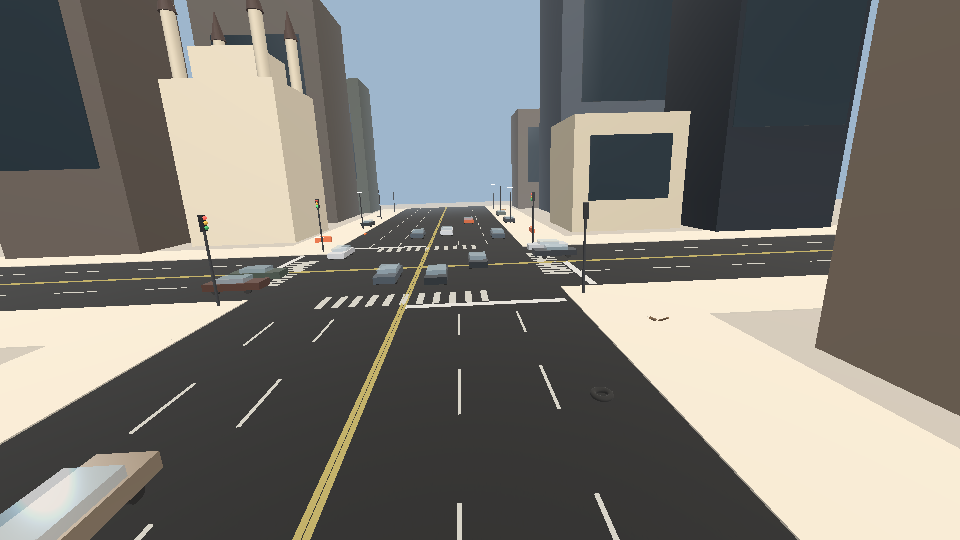unknown: (637, 307, 674, 333), (582, 383, 623, 406), (314, 236, 333, 243), (529, 226, 535, 234), (363, 232, 368, 236), (376, 216, 381, 218), (501, 209, 506, 210)
vehicle: (200, 273, 271, 296), (227, 264, 289, 284), (372, 261, 403, 289), (532, 243, 578, 259), (424, 261, 449, 290), (527, 238, 568, 253), (327, 244, 355, 263), (468, 249, 488, 272), (490, 227, 505, 241), (410, 228, 426, 241), (440, 225, 453, 238), (360, 219, 376, 228), (503, 215, 515, 224), (463, 216, 474, 225), (496, 209, 506, 216)
